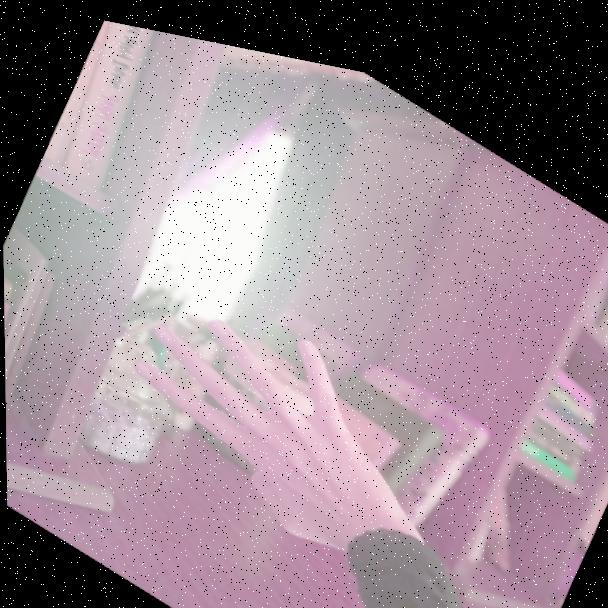four: (78, 210, 503, 608)
